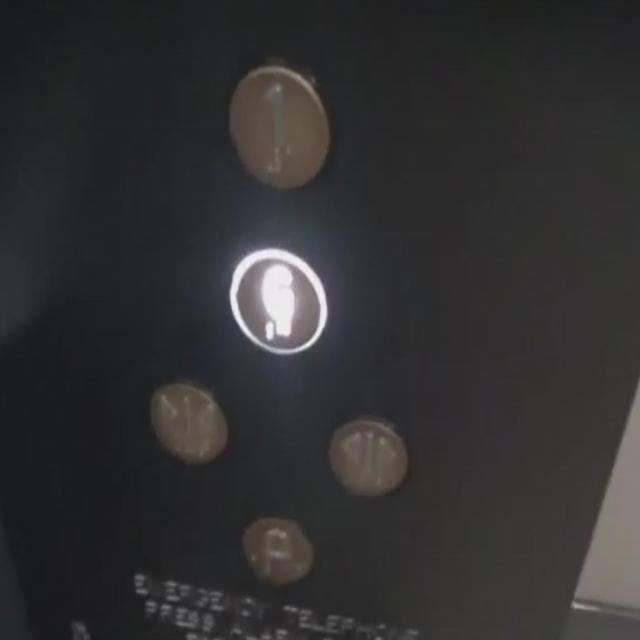1: (226, 59, 332, 192)
G: (228, 245, 329, 356)
P: (241, 512, 315, 590)
close: (145, 378, 231, 467)
open: (328, 412, 412, 500)
